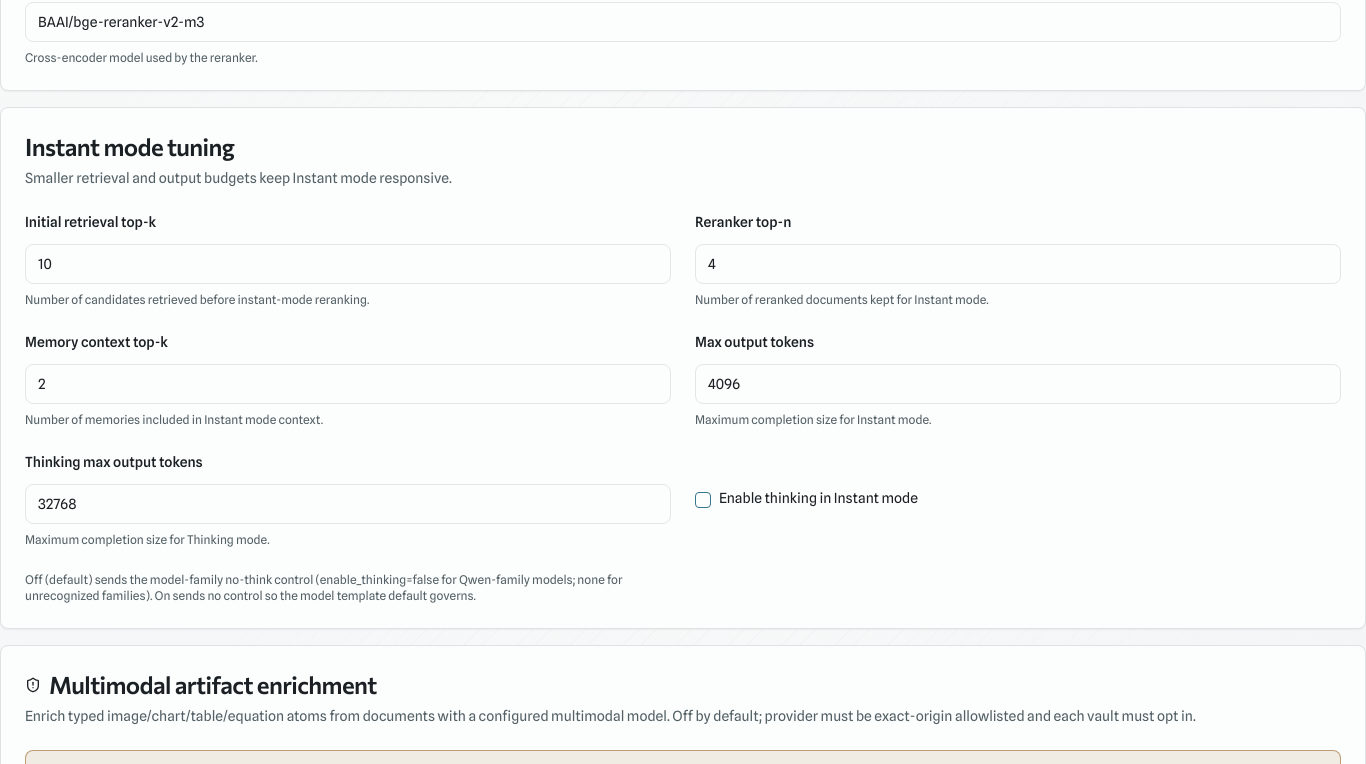
Test: ModelsTab › keeps the previous numeric value while a number field is cleared
(page scrolled)
Clear the number field labelled "Max output tokens" at (1018,384), box [695,364,1341,404]
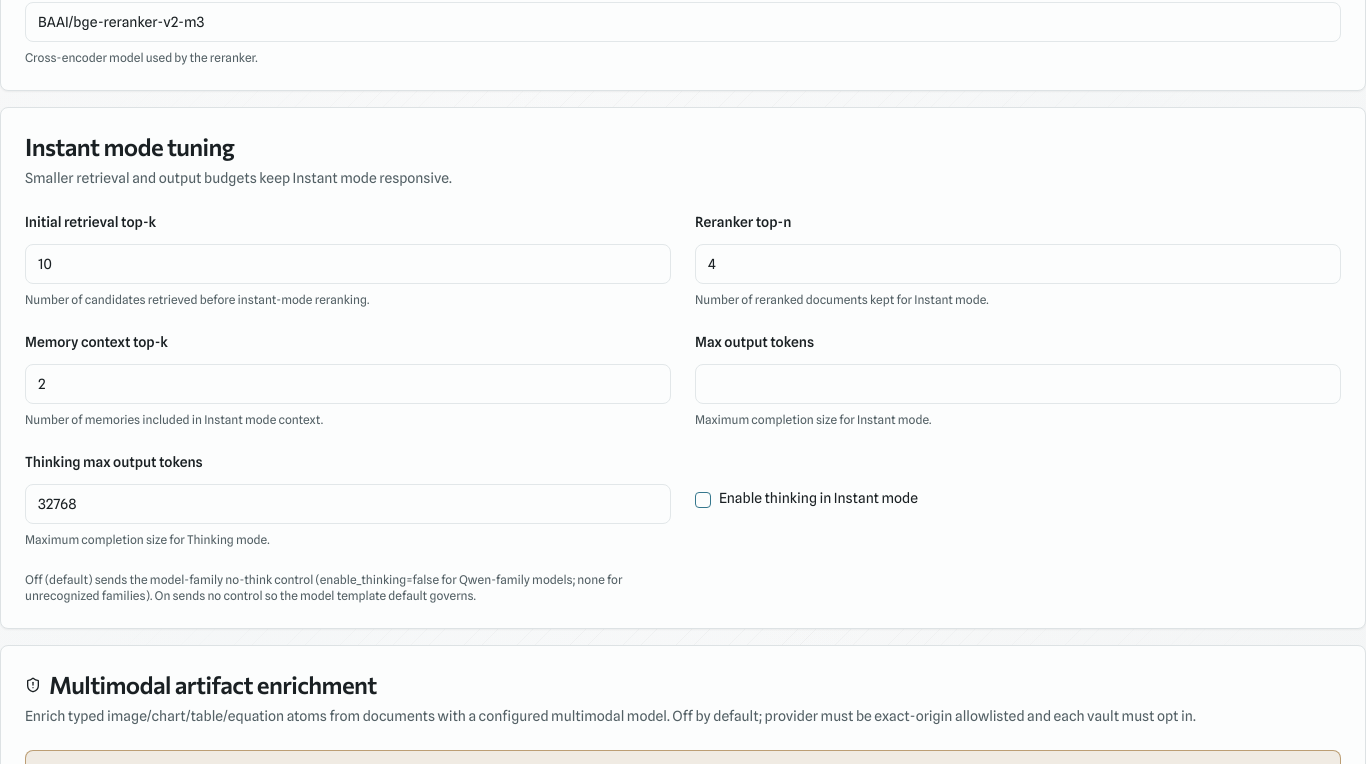
Leave the number field labelled "Max output tokens", box [695,364,1341,404]
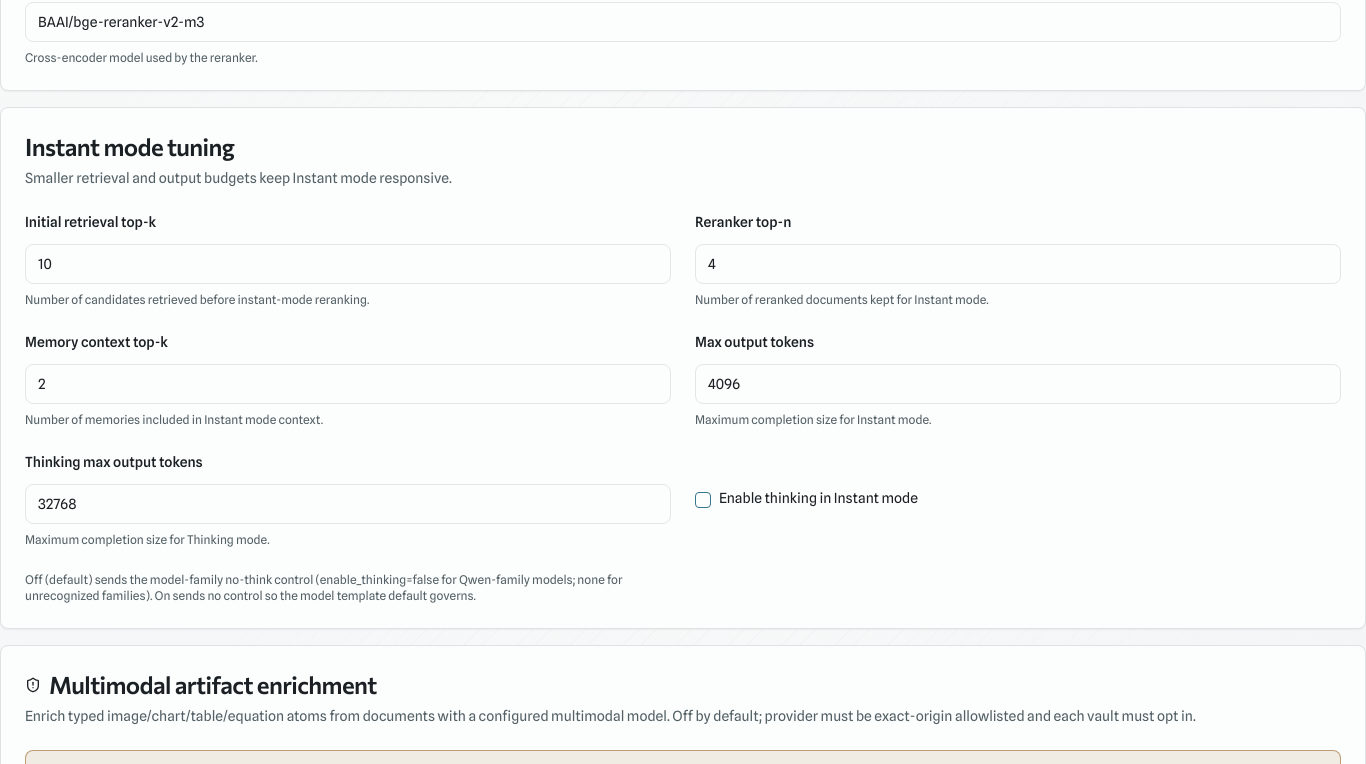
Expected: the number field labelled "Max output tokens" holds "4096", [695,364,1341,404]
